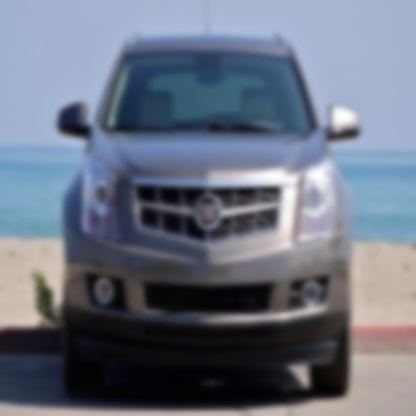Vehicle: (57, 29, 362, 403)
